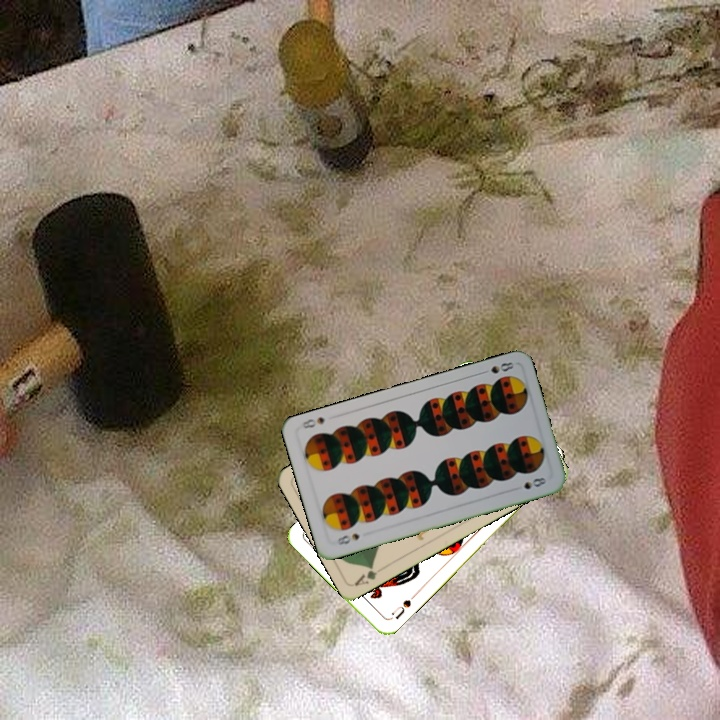GA: (351, 561, 380, 588)
S8: (476, 358, 517, 377), (330, 529, 362, 548)
SU: (387, 595, 414, 621)
